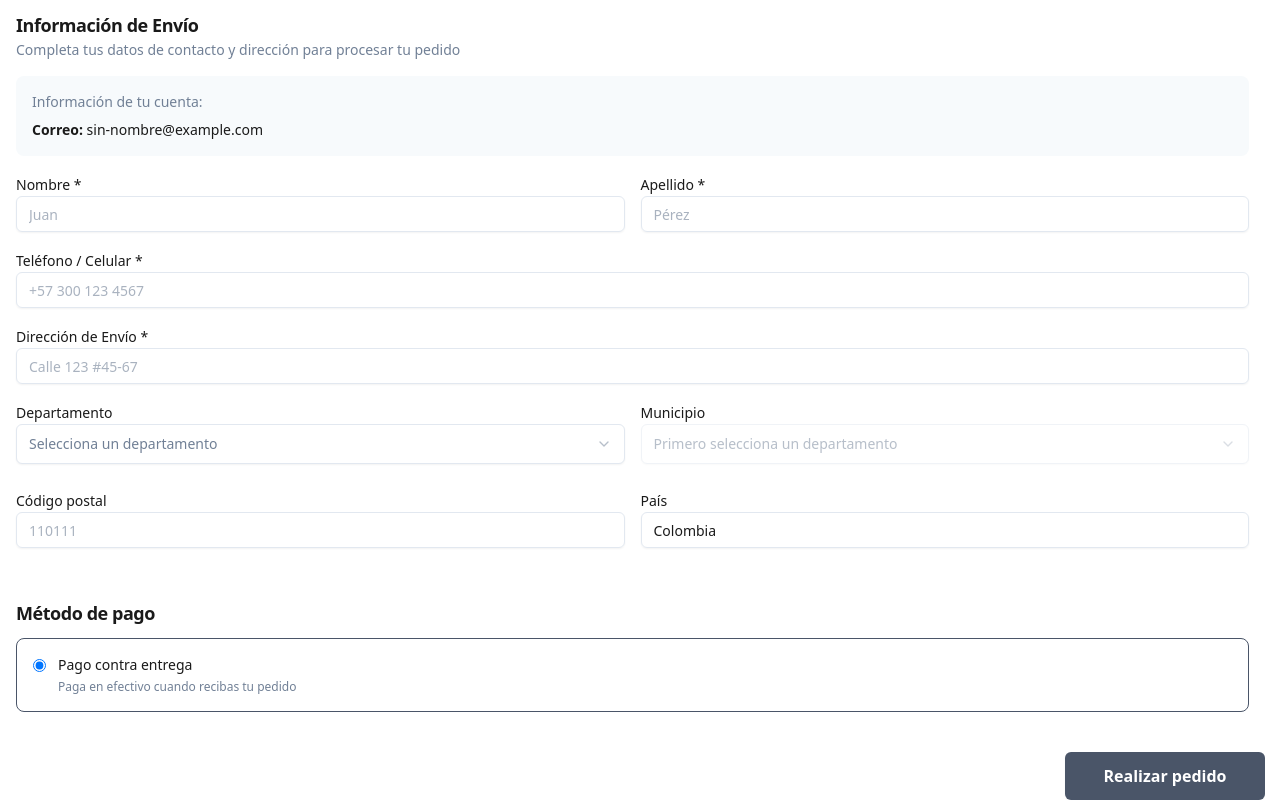
Test case: AuthenticatedCheckoutForm field validation › blocks submit and shows required errors when the account has no name
This screenshot has width=1280, height=800.
Type "3001234567" into the field labelled "Teléfono / Celular *".
click(632, 290); type("3001234567")  # box [16,272,1249,308]
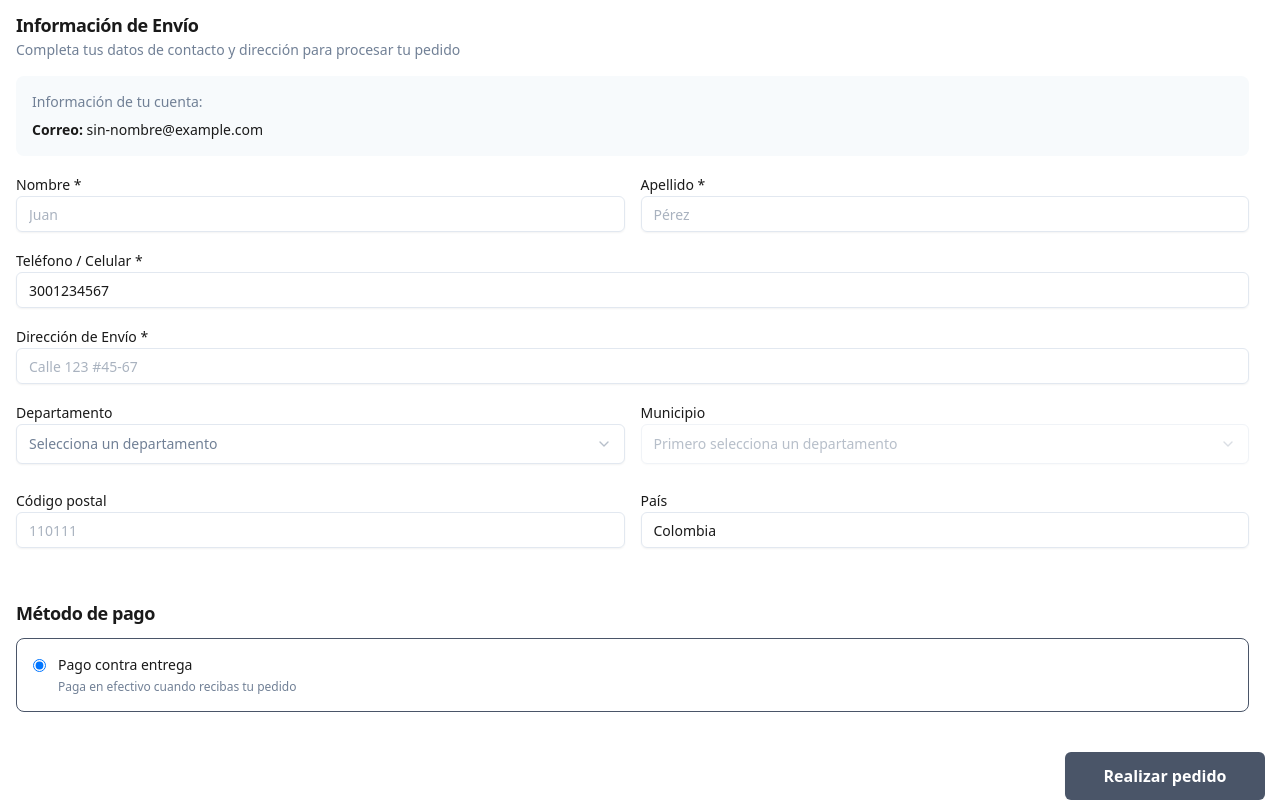
Type "Calle 123" into the field labelled "Dirección de Envío *".
click(632, 366); type("Calle 123")  # box [16,348,1249,384]
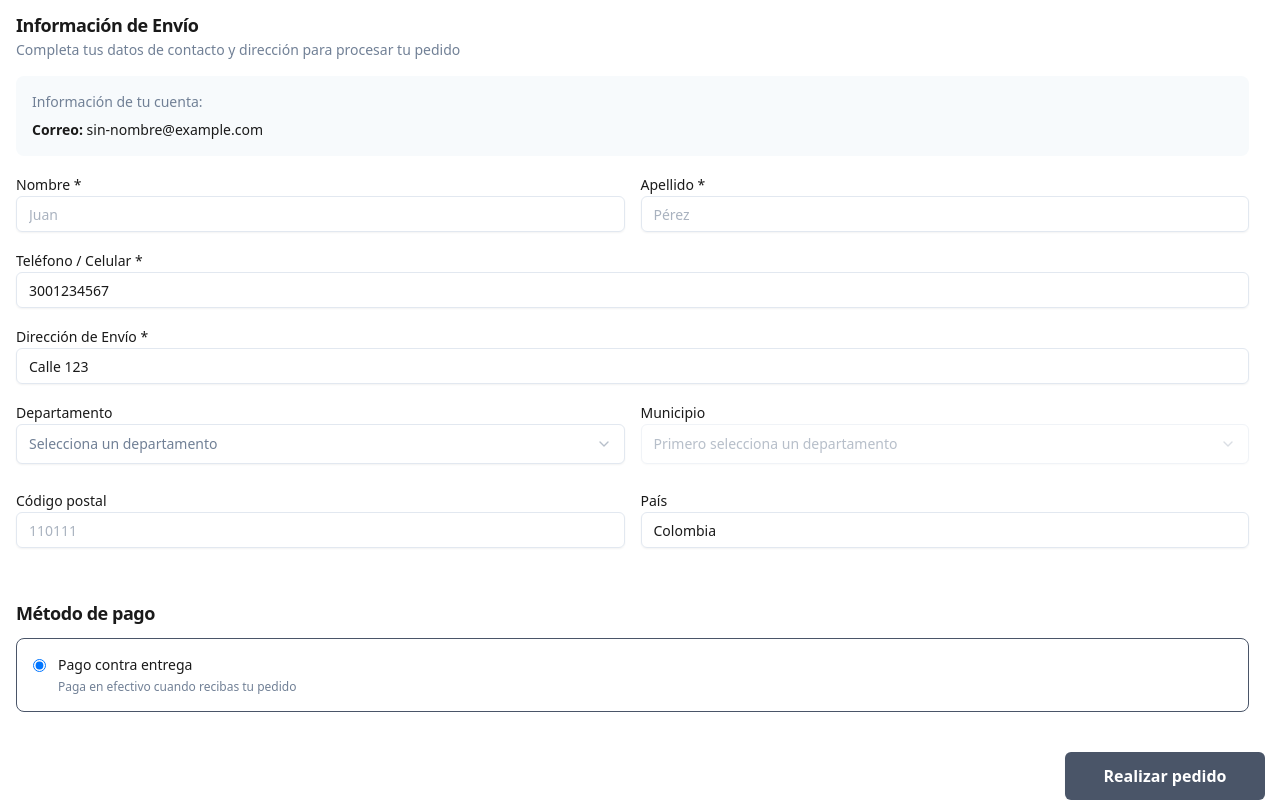
Click the button "Realizar pedido".
click(1165, 776)  # box [1065,752,1265,799]
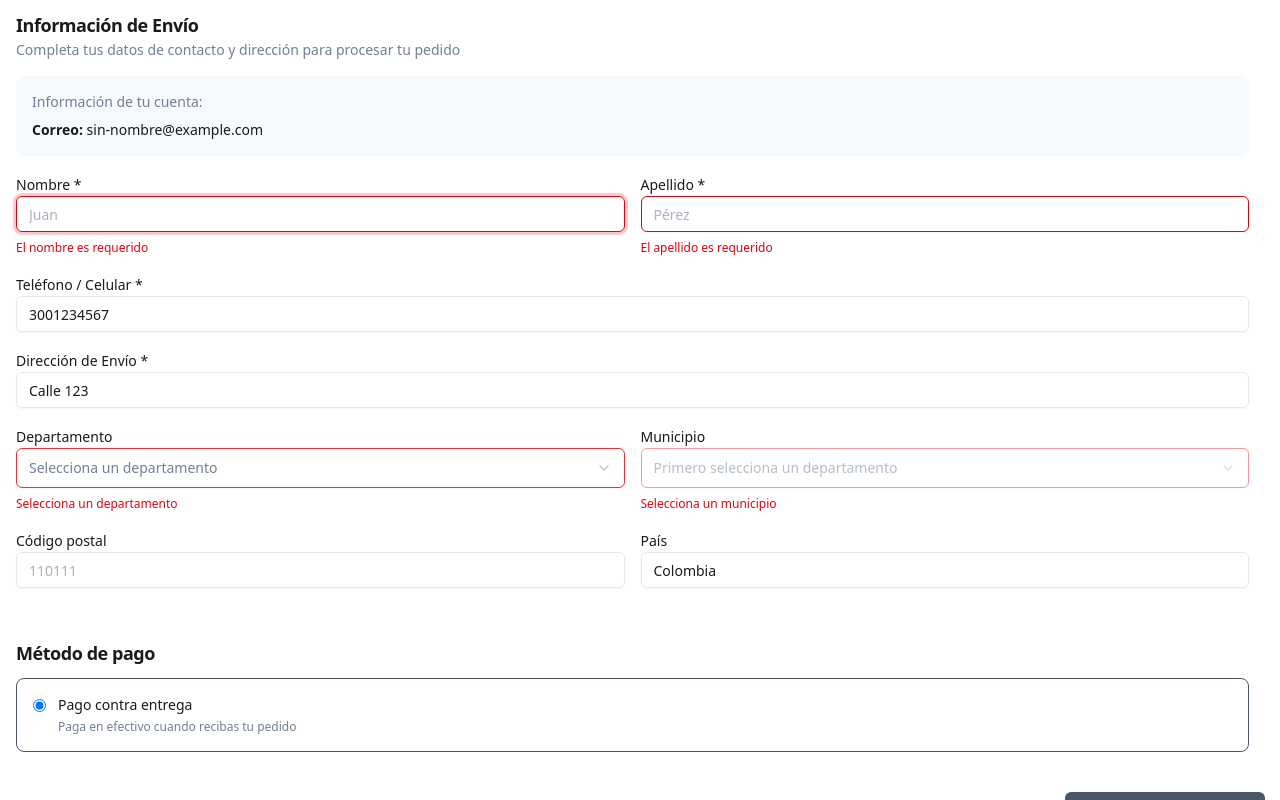
Now the text "El nombre es requerido" is shown, box [16,239,148,256]
Now the text "El apellido es requerido" is shown, box [640,239,773,256]
